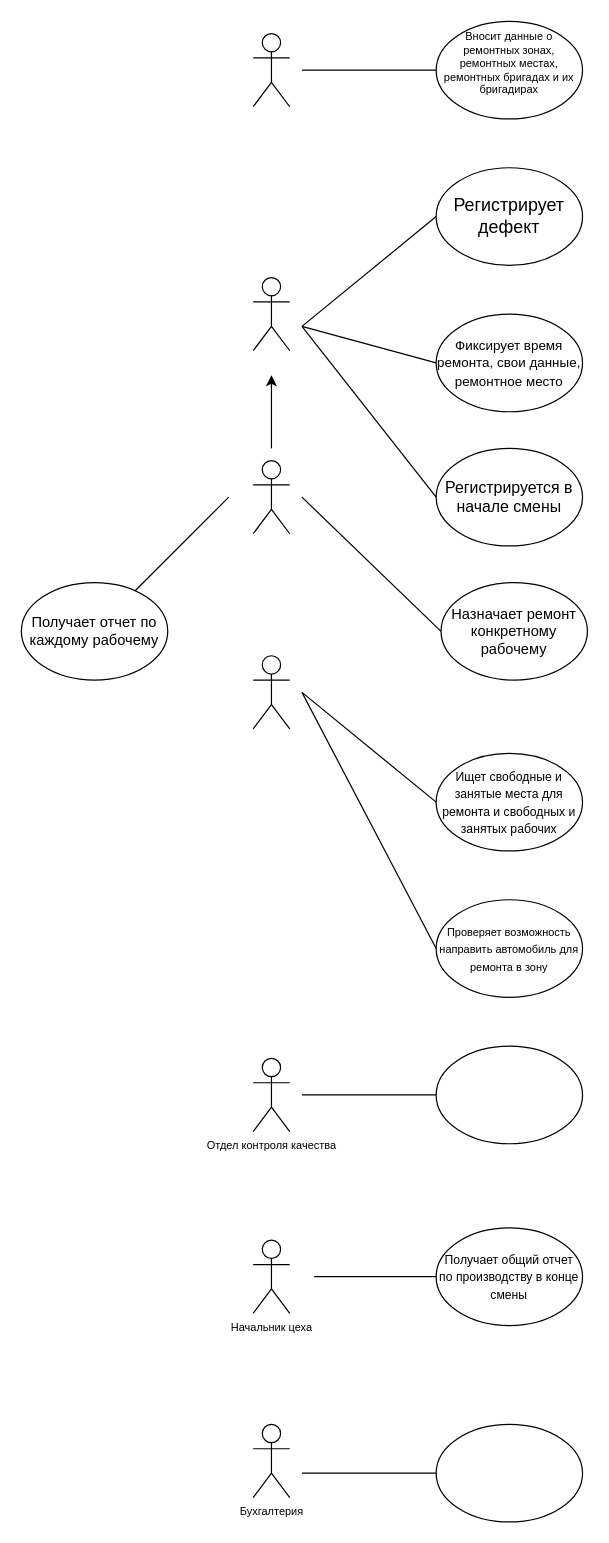
This 609x1543 diagram has some shape labels left out. Each missing label, with the box of its shape:
Администратор системы: (252, 32, 290, 107)
Бригадир: (252, 459, 290, 534)
Диспетчер: (252, 655, 290, 729)
Получает отчет по каждому рабочему о количестве отработанных смен: (435, 1423, 583, 1522)
Получает сводный по каждому участку отчет в конце смены: (435, 1045, 583, 1144)
Рабочий: (252, 276, 290, 351)
